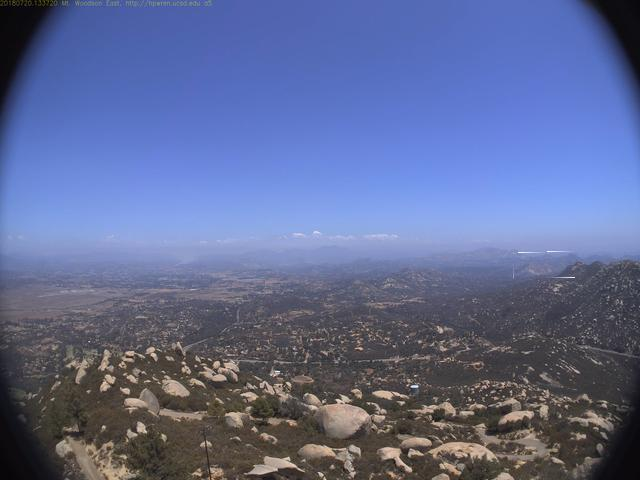smoke: (514, 253, 580, 280)
